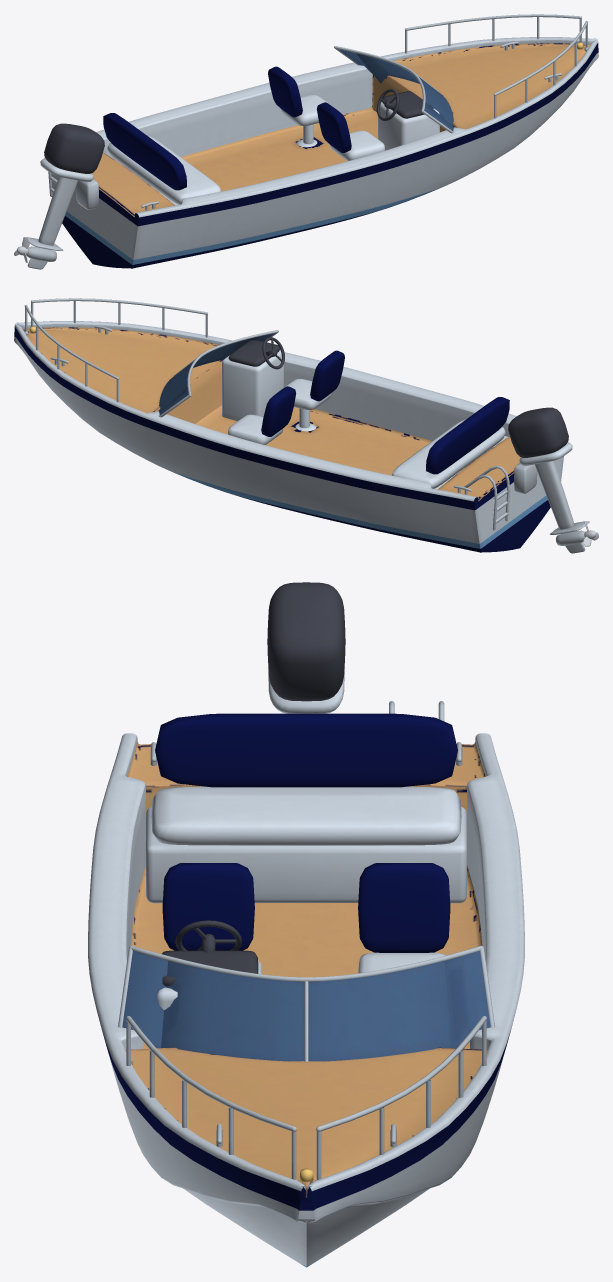
File: lancha-ventura-1992.glb
3 renders of one model, top to bottom at view 1: azimuth 30°, elevation 25°; view 2: azimuth 150°, elevation 25°; view 3: azimuth 270°, elevation 25°, orthographic. The views are drawn at different scales.
Parts seen in each view (by area): view 1: motorboat_body, motorboat_steering_wheel; view 2: motorboat_body, motorboat_steering_wheel; view 3: motorboat_body, motorboat_steering_wheel.
Part boxes in pixels (left/top/right/bottom): motorboat_body: left=23, top=14, right=598, bottom=269; motorboat_steering_wheel: left=376, top=89, right=399, bottom=120; motorboat_body: left=14, top=298, right=589, bottom=553; motorboat_steering_wheel: left=262, top=337, right=284, bottom=369; motorboat_body: left=88, top=582, right=524, bottom=1267; motorboat_steering_wheel: left=175, top=920, right=241, bottom=952.
Bounding box in the file's own units: 5.7 × 1.39 × 1.86.
Materials: 3 (1 with a texture image).
